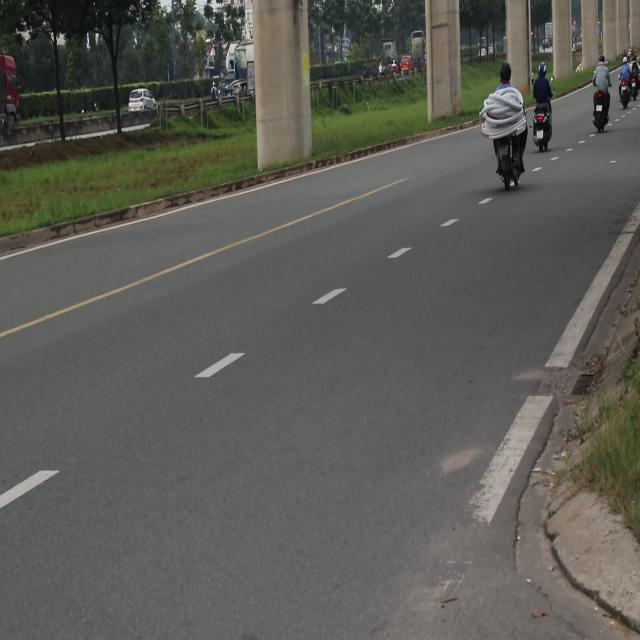car: (128, 90, 158, 112)
motorbike: (478, 120, 524, 202), (531, 101, 555, 154), (592, 88, 610, 132), (619, 72, 636, 109), (632, 70, 640, 114)
truck: (0, 46, 30, 156), (223, 56, 264, 112)
